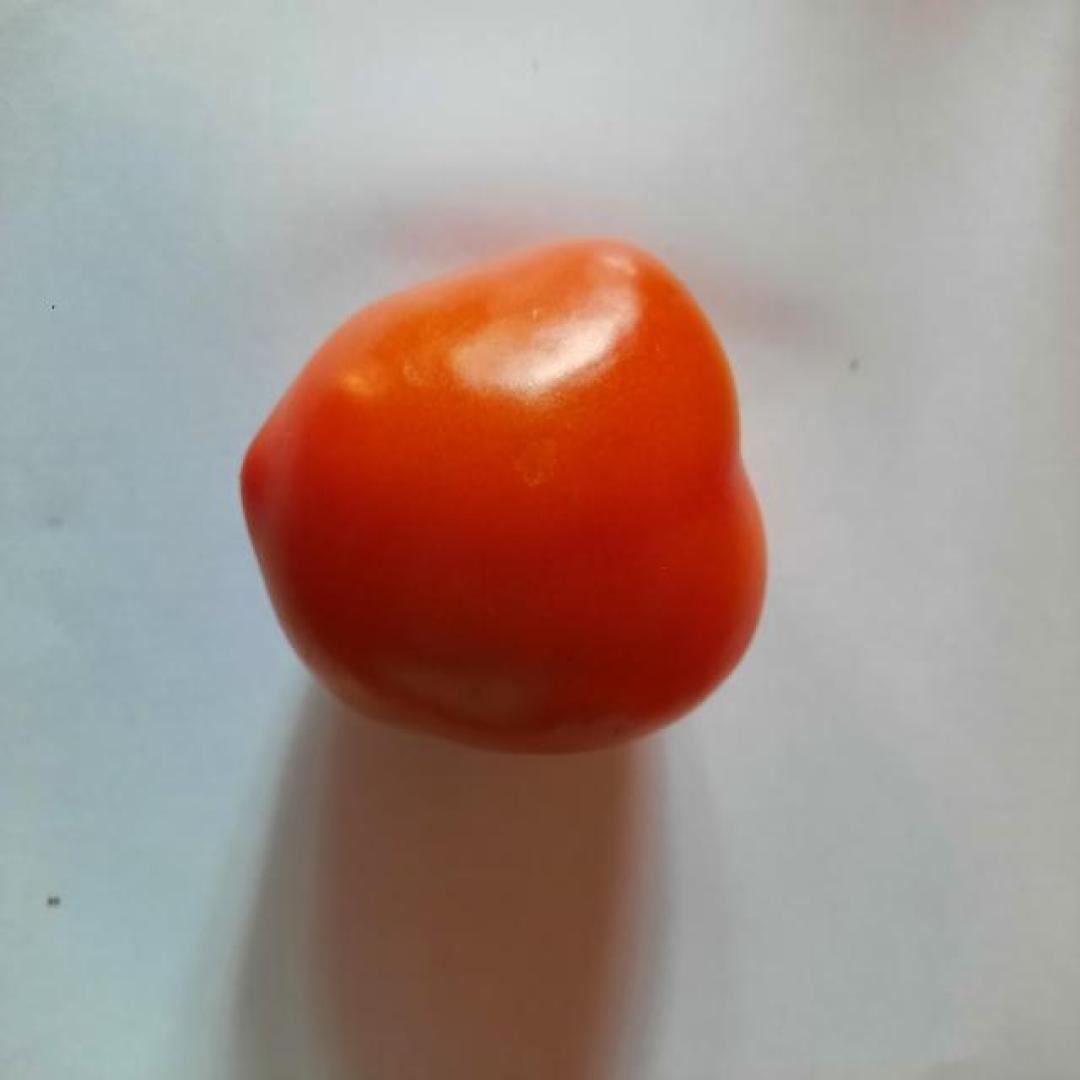matang: (236, 237, 773, 754)
